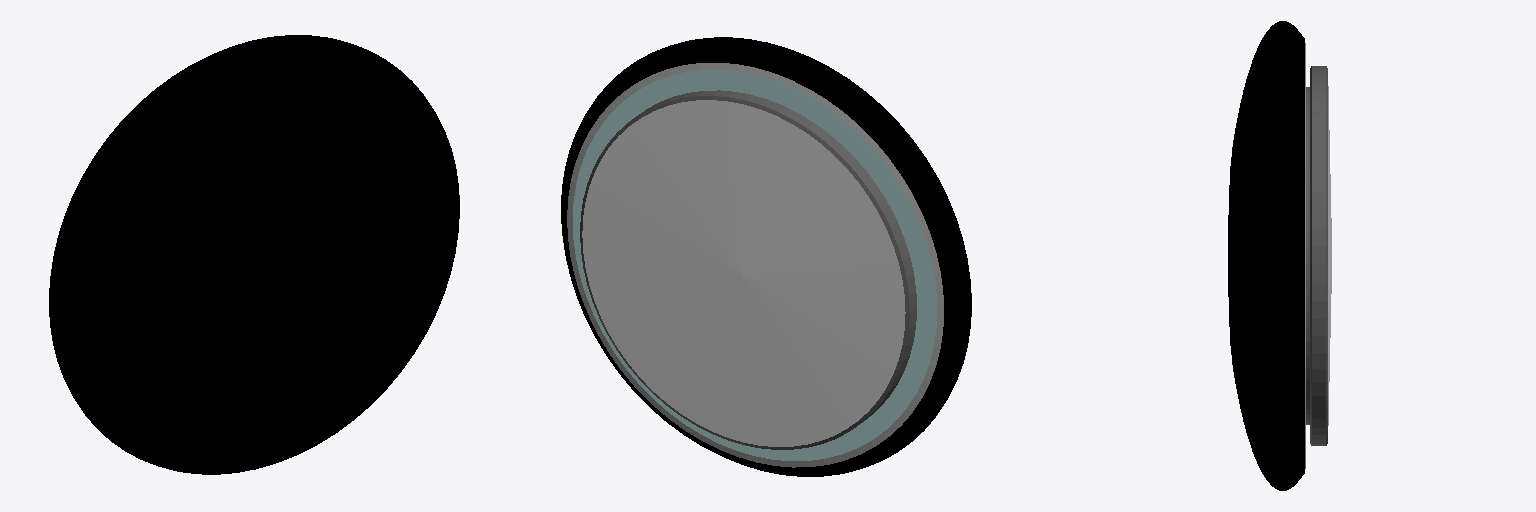
3 views of the same model, side by side, from view 1: azimuth 30°, elevation 25°; view 2: azimuth 150°, elevation 25°; view 3: azimuth 270°, elevation 25° (orthographic).
Parts seen in each view (by area): view 1: Airtag; view 2: Airtag.001, Airtag; view 3: Airtag, Airtag.001.
Part boxes in pixels (bbox=[...]): Airtag: bbox=[49, 35, 459, 474]; Airtag.001: bbox=[580, 90, 916, 449]; Airtag: bbox=[561, 37, 971, 476]; Airtag: bbox=[1228, 21, 1305, 490]; Airtag.001: bbox=[1306, 66, 1331, 445].
Size of the model in its own units: 2 by 2 by 0.4447.